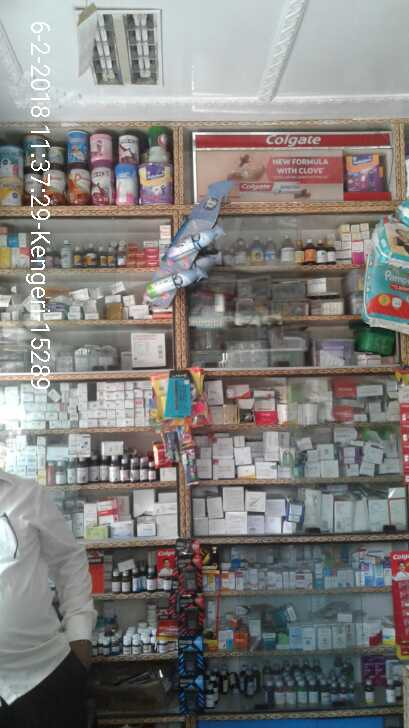home: (160, 224, 223, 263), (140, 272, 214, 295)
pharmacy: (365, 258, 408, 321)
